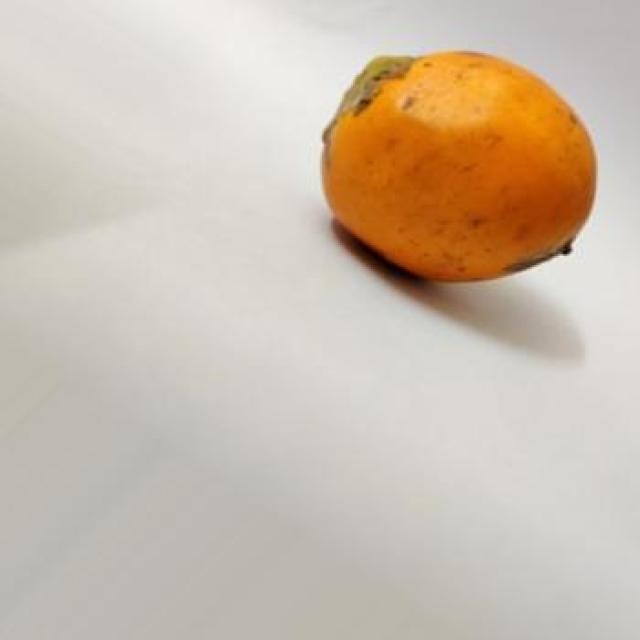good: (320, 55, 598, 285)
